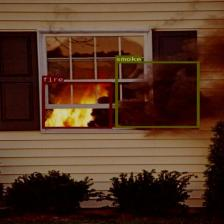fire: (42, 82, 111, 128)
smoke: (115, 61, 199, 128)
